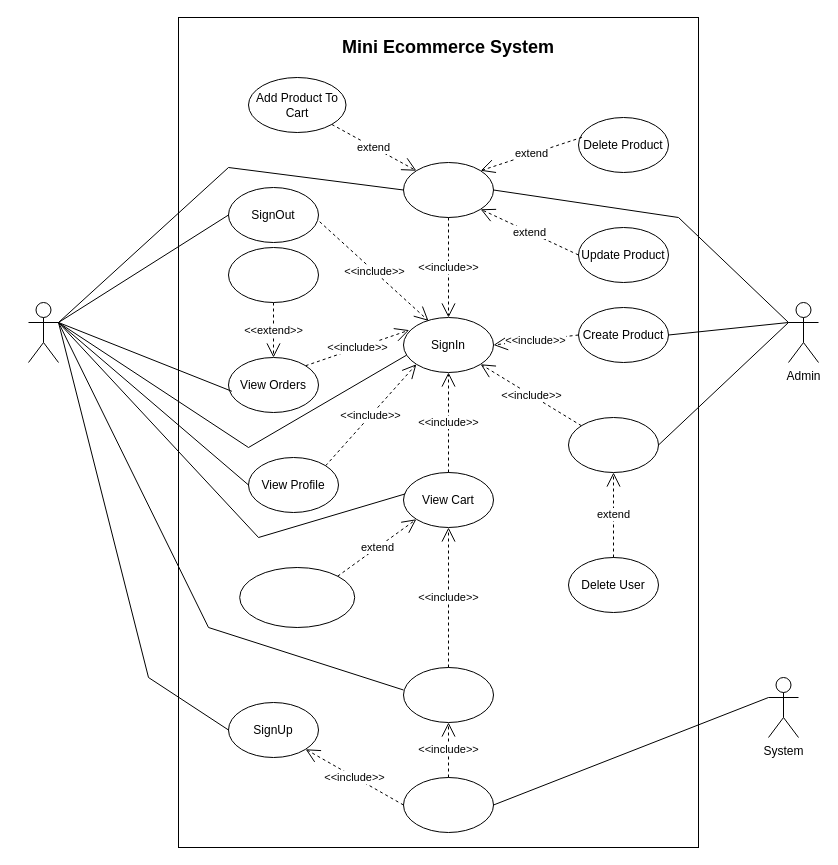
The diagram is 838 pixels wide and 865 high, and some of its shapes have lost their labels. Here are the shapes that lost their labels. From the top down, the box of each, then its label:
(402, 162, 494, 218): View Products
(228, 246, 318, 302): Update Order
(28, 302, 58, 362): Customer
(568, 416, 658, 472): View Users
(239, 566, 355, 628): Remove Product From Cart
(402, 666, 494, 722): Order
(402, 776, 494, 832): Send Email
